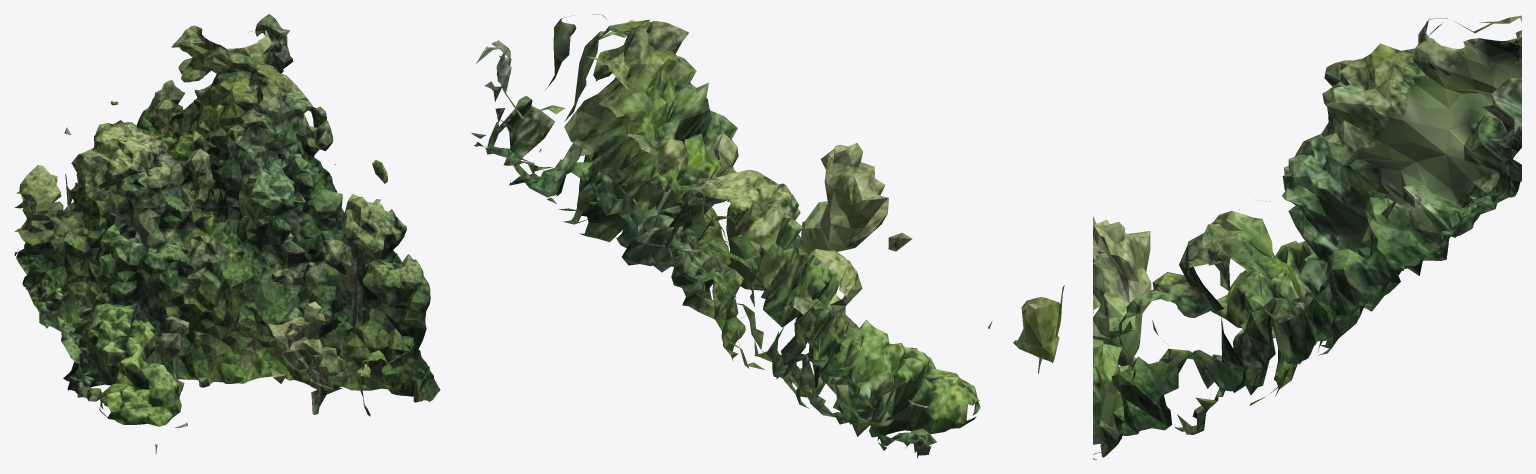
3 views of the same model, side by side, from view 1: azimuth 30°, elevation 25°; view 2: azimuth 150°, elevation 25°; view 3: azimuth 270°, elevation 25° (orthographic). The views are drawn at different scales.
Bounding box in the file's own units: 52.22 × 52.22 × 52.22.
Materials: 7 (7 with a texture image).
